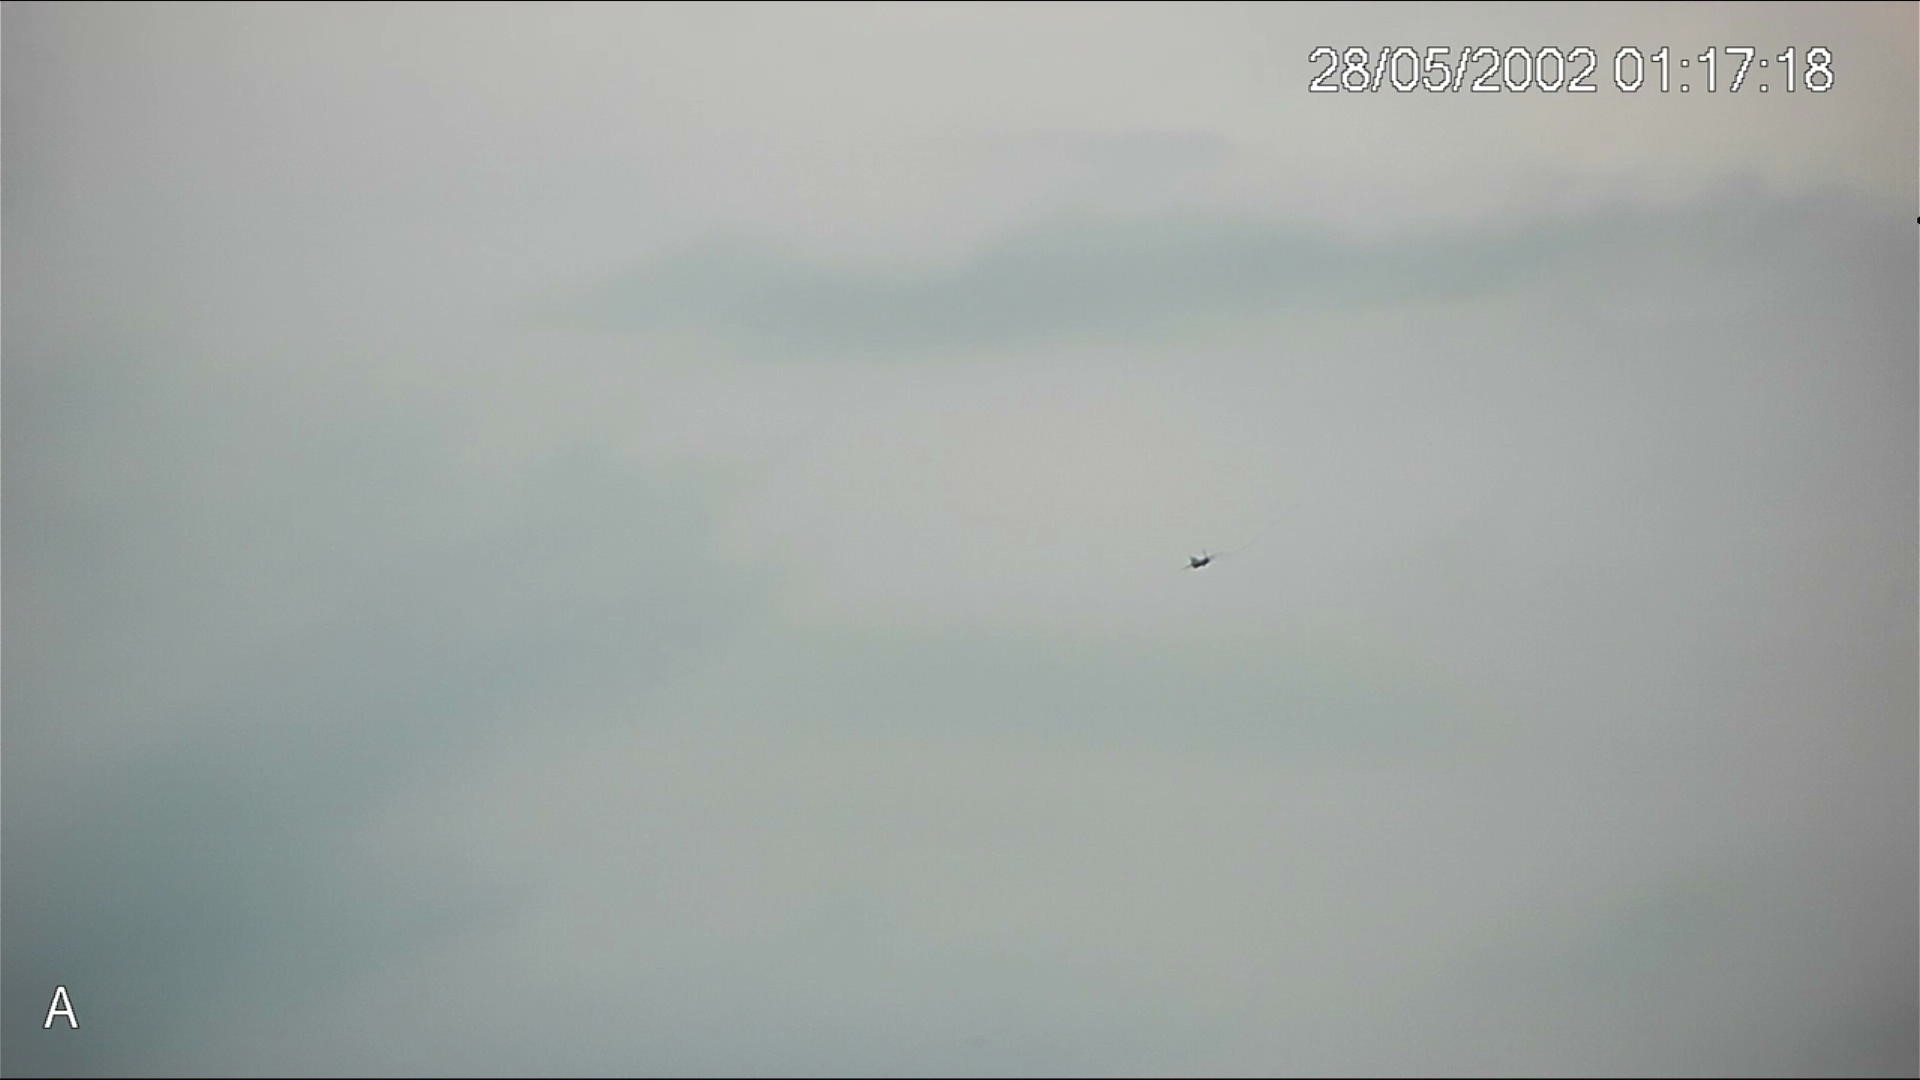SU_30: (1184, 551, 1212, 571)
